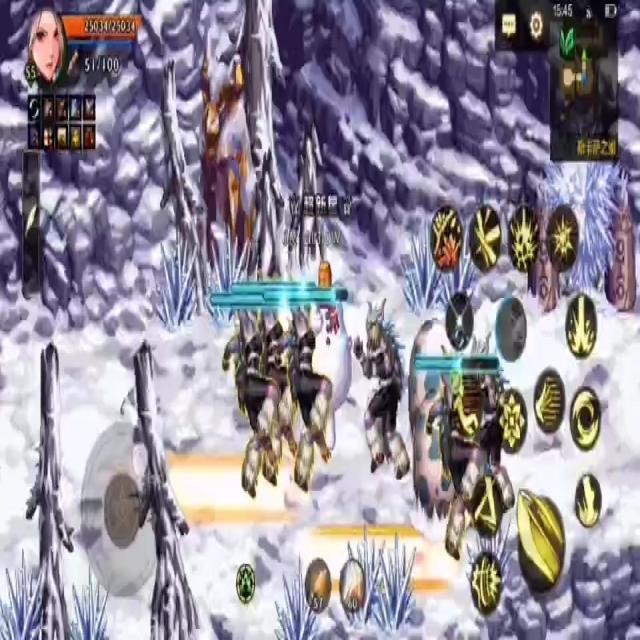player: (307, 262, 354, 422)
